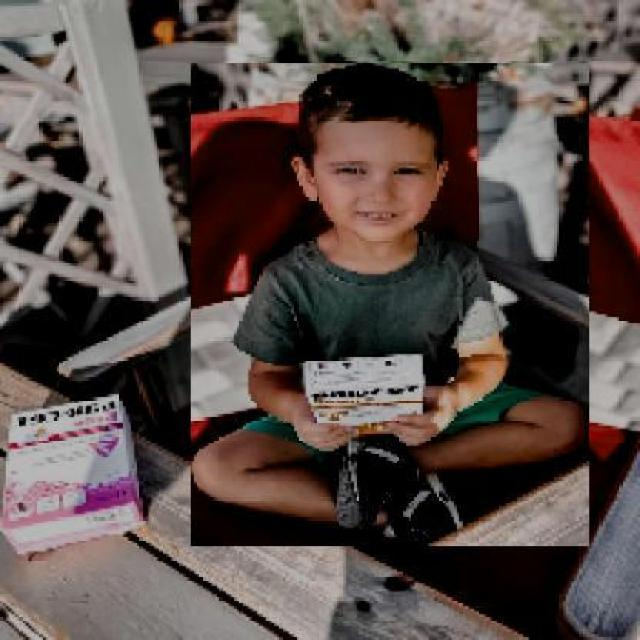child: (188, 63, 588, 548)
